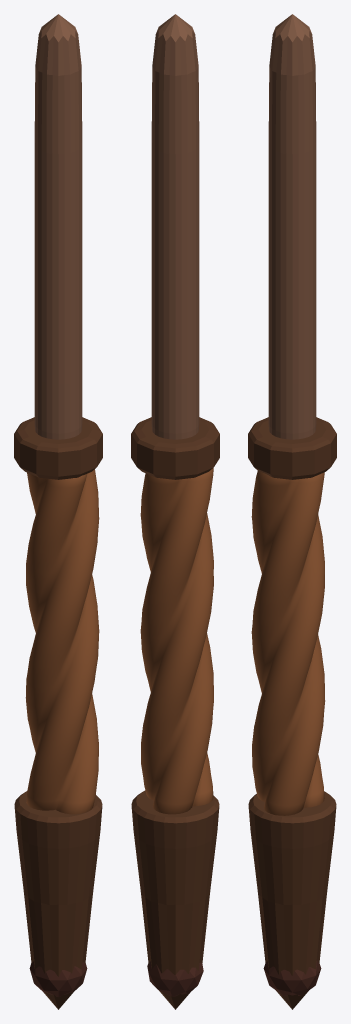
The model's file is Wand 810.glb.
3 renders of one model, left to right at view 1: azimuth 90°, elevation 25°; view 2: azimuth 150°, elevation 25°; view 3: azimuth 270°, elevation 25°, orthographic.
Parts seen in each view (by area): view 1: GeneratedWand; view 2: GeneratedWand; view 3: GeneratedWand.
Part boxes in pixels (x1,y1,x2,y2): GeneratedWand: (14,14,102,1009); GeneratedWand: (131,14,219,1009); GeneratedWand: (248,14,336,1009).
Bounding box in the file's own units: 0.0398 × 0.4918 × 0.0398.
